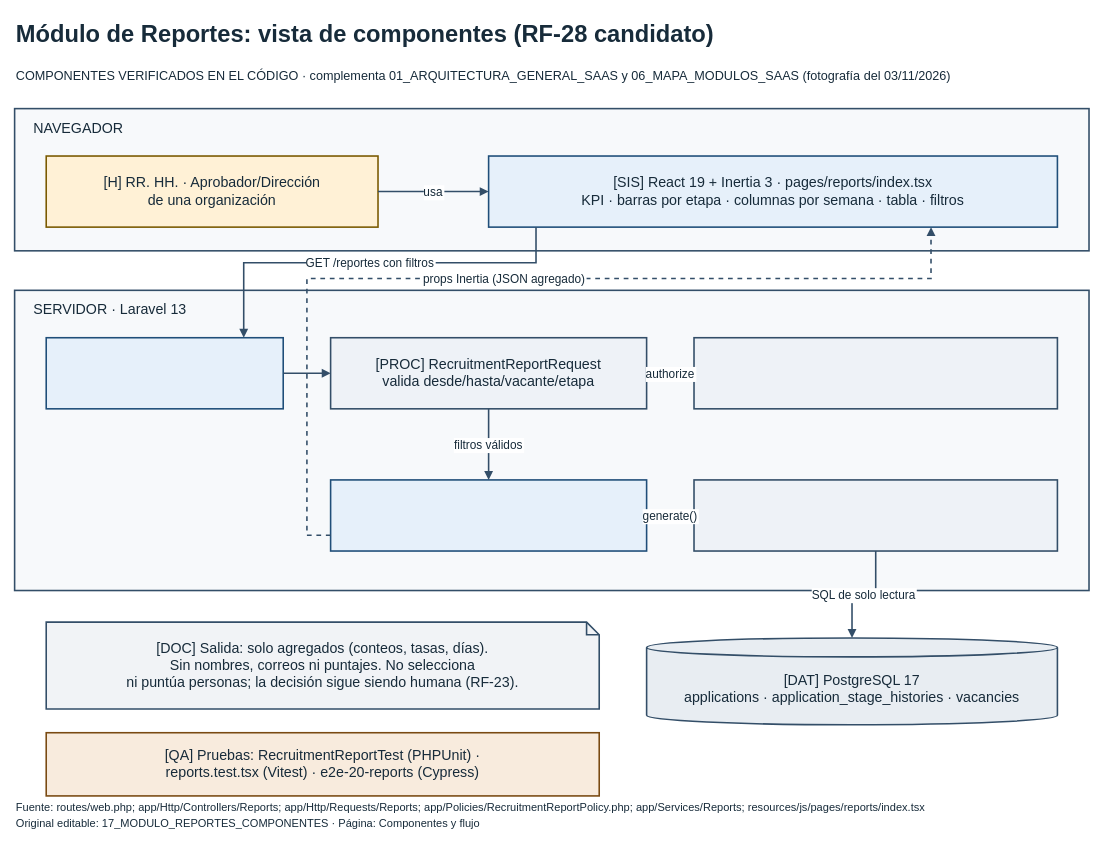
This 1103x843 diagram has some shape labels left out. Here are the shapes that lost their labels. From the top down, the box of each, then its label:
(45, 337, 284, 409): [SIS] Ruta GET /reportes middleware auth
(693, 337, 1058, 409): [PROC] RecruitmentReportPolicy Gate viewRecruitmentReports: rol + organización
(329, 479, 647, 551): [SIS] RecruitmentReportController delgado: período y filtros → servicio
(693, 479, 1058, 551): [PROC] RecruitmentReportService organization_id explícito + OrganizationScope
